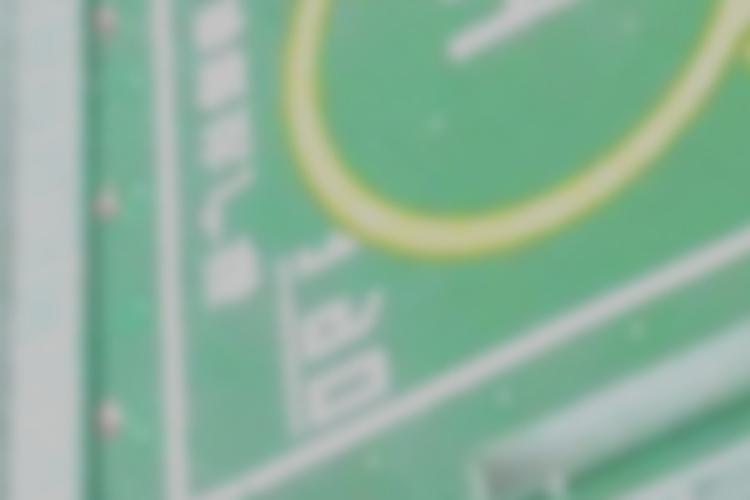Apron: (247, 1, 744, 249)
